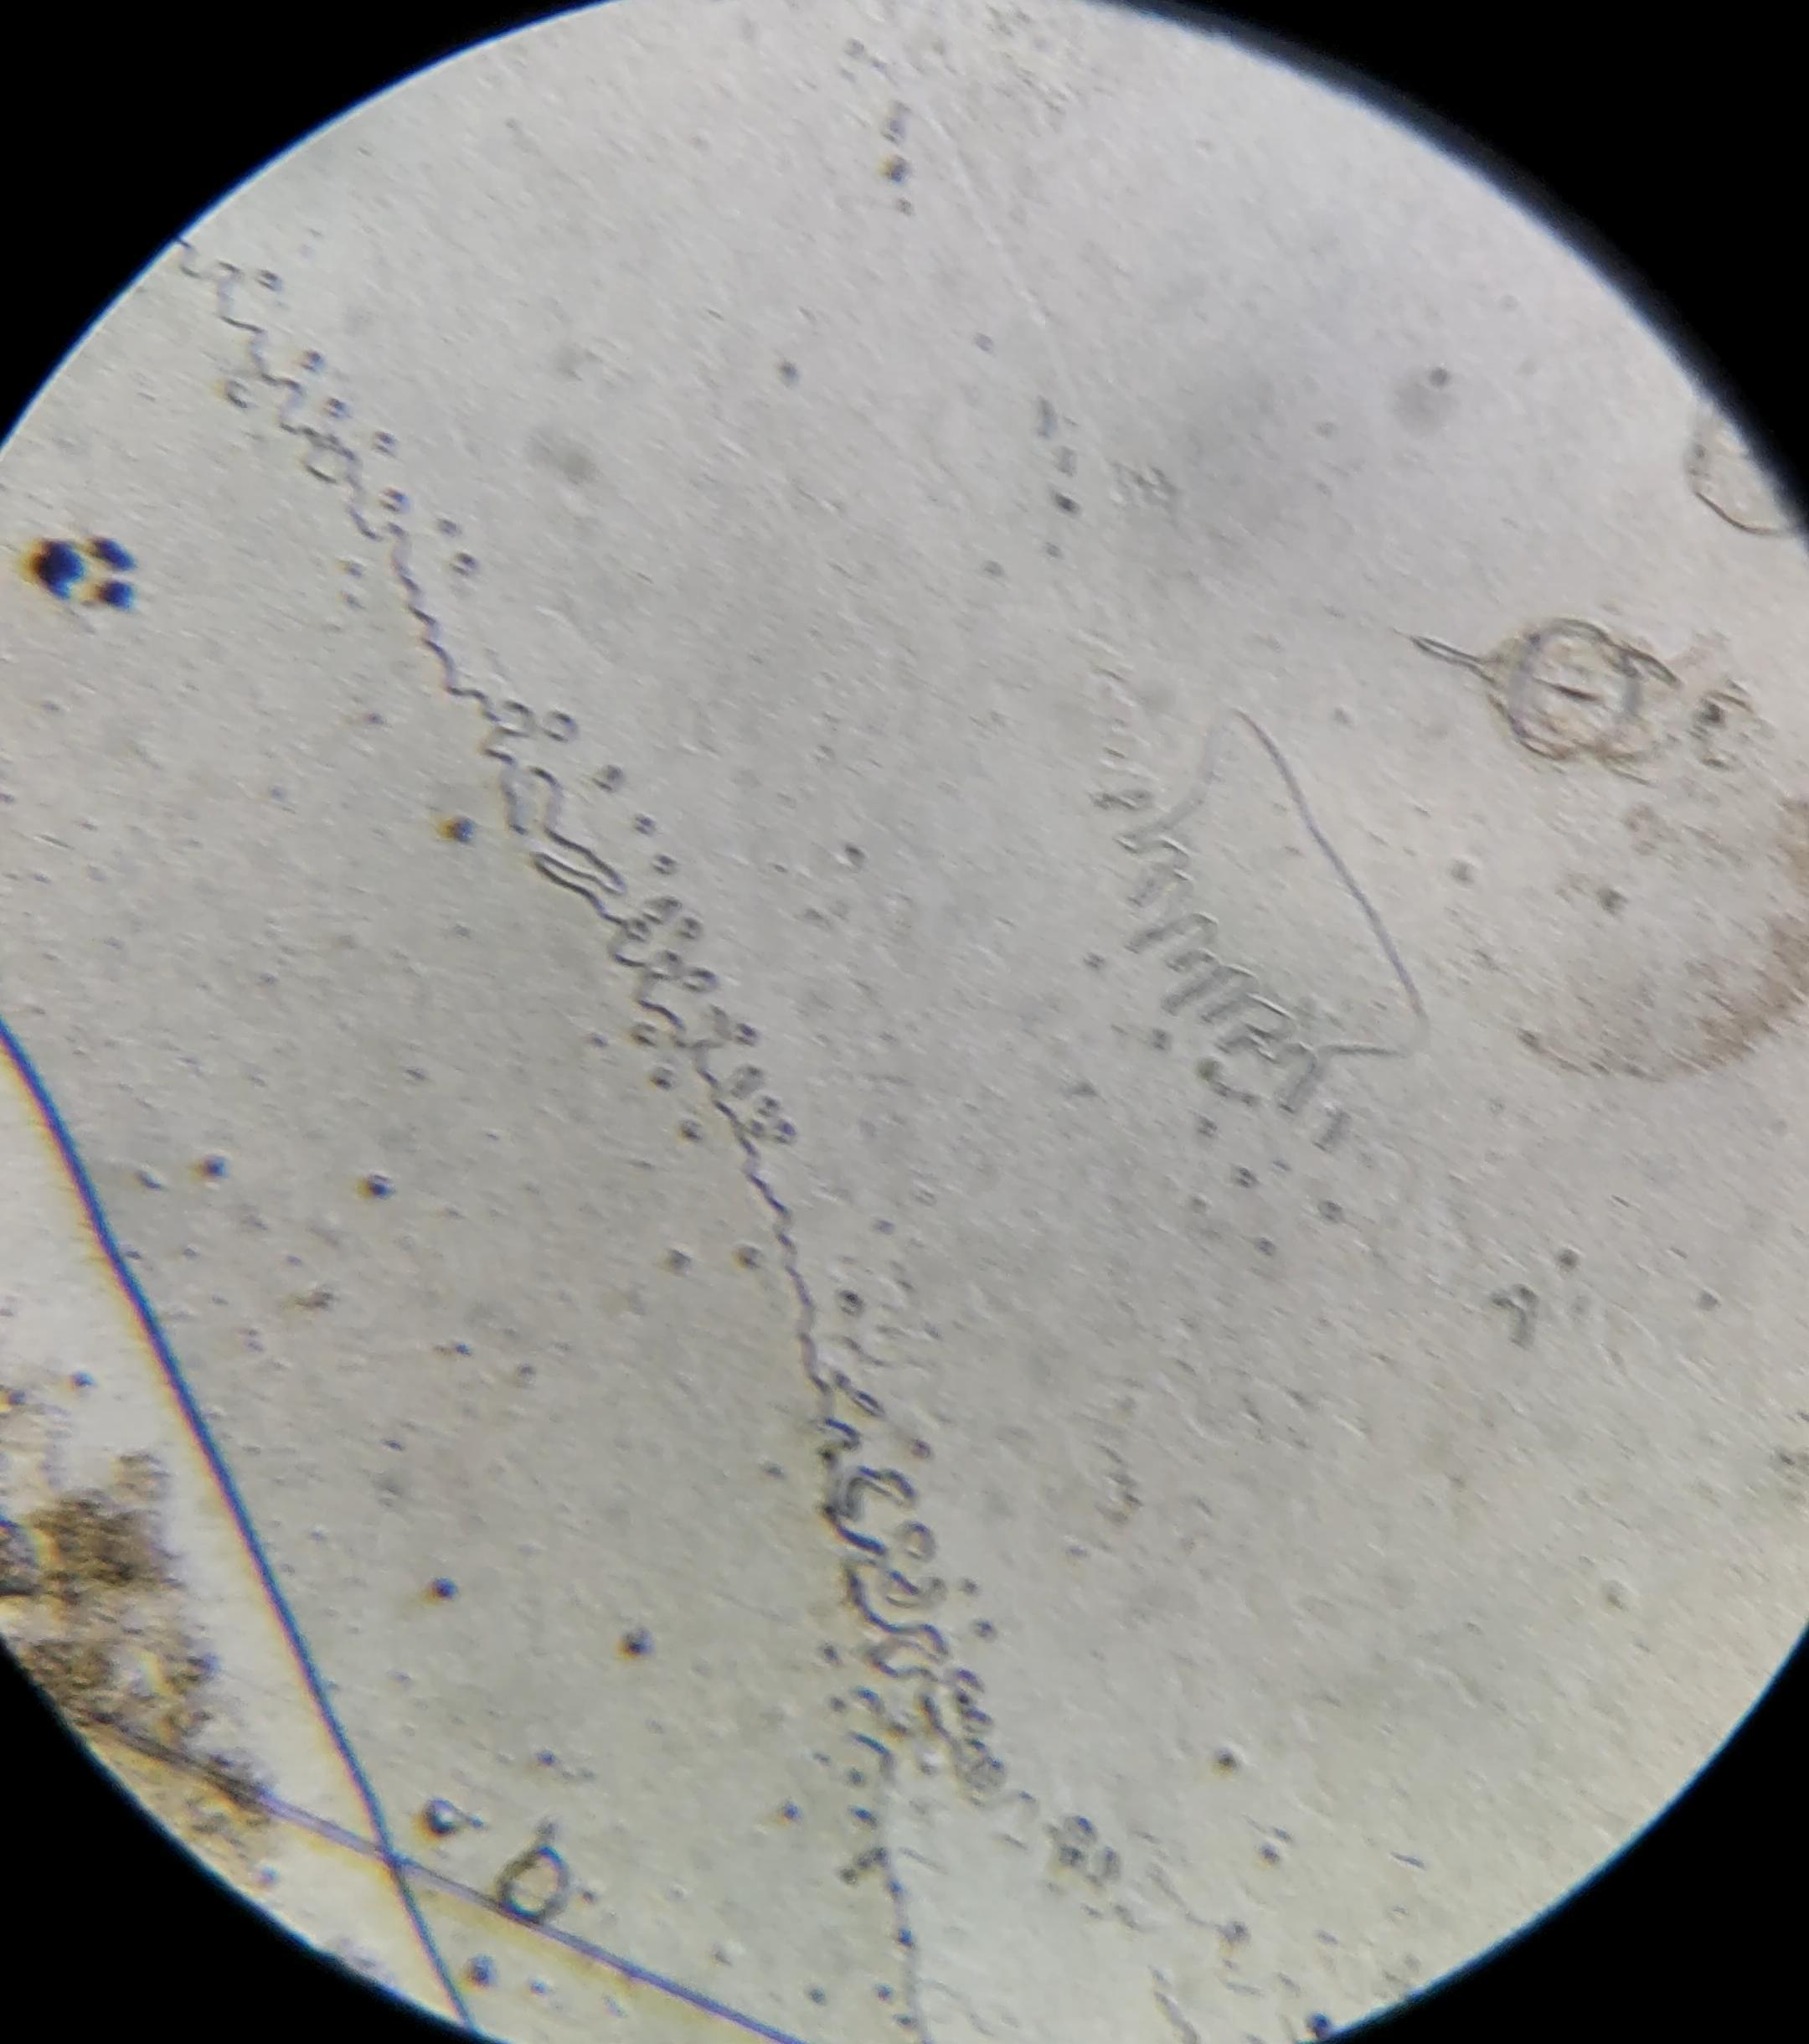Mo: (1409, 618, 1697, 762)
